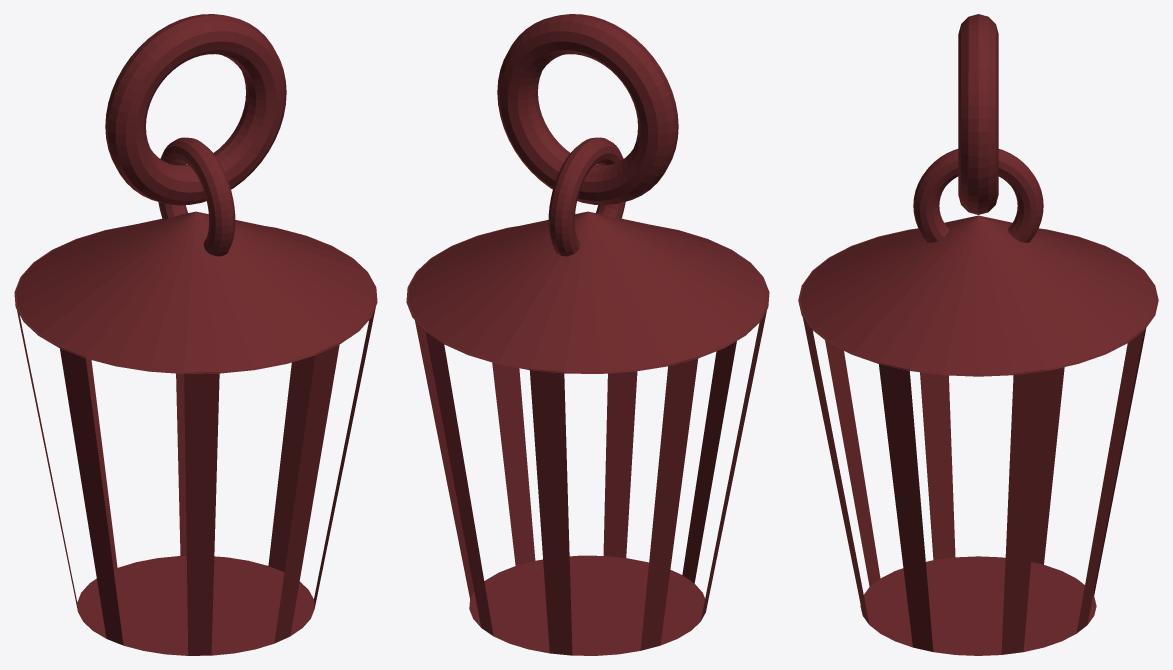
The model's file is canter.fbx.
3 views of the same model, side by side, from view 1: azimuth 30°, elevation 25°; view 2: azimuth 150°, elevation 25°; view 3: azimuth 270°, elevation 25° (orthographic).
Visible parts, largest first — view 1: 円柱.001; view 2: 円柱.001; view 3: 円柱.001.
Boxes of the visible parts, x1,y1,x2,y2 form: 円柱.001: (14, 14, 377, 655); 円柱.001: (406, 14, 769, 655); 円柱.001: (798, 14, 1158, 655).
Size of the model in its own units: 1.65 by 3.16 by 1.65.
Materials: 5 (5 with a texture image).
